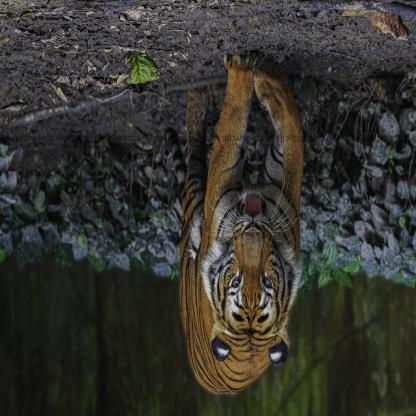tiger: (209, 184, 296, 354)
